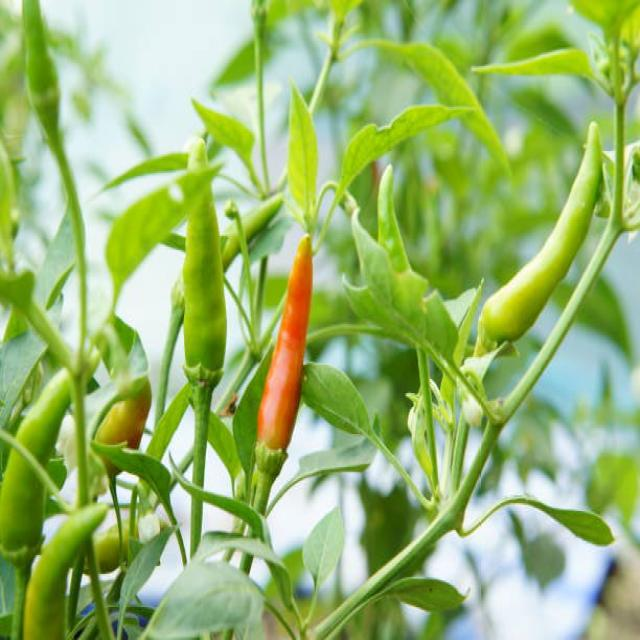Ripe: (254, 235, 312, 512)
Unripe: (479, 122, 602, 349), (182, 129, 226, 486), (0, 372, 79, 568), (24, 504, 106, 639)
